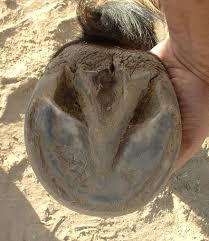horsesole: (24, 63, 183, 218)
